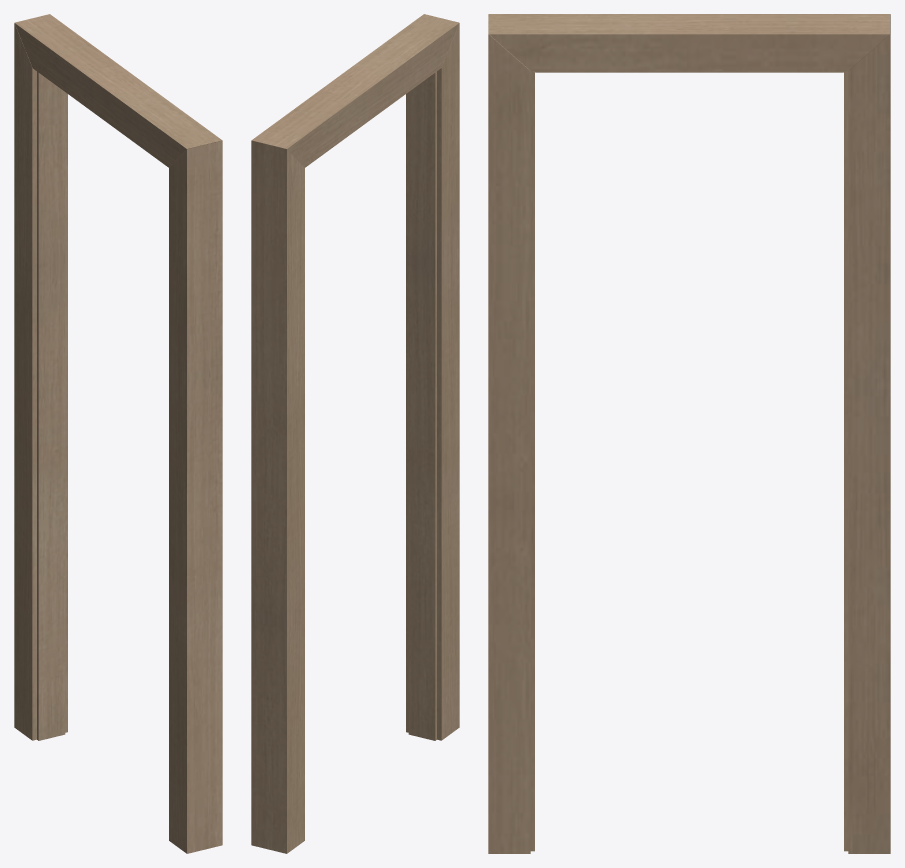
File: EE-PAB-02_1_SRG0.gltf
3 renders of one model, left to right at view 1: azimuth 30°, elevation 25°; view 2: azimuth 150°, elevation 25°; view 3: azimuth 270°, elevation 25°, orthographic. The views are drawn at different scales.
Parts seen in each view (by area): view 1: Mesh2_Agrupar_2_Model000; view 2: Mesh2_Agrupar_2_Model000; view 3: Mesh2_Agrupar_2_Model000.
Part boxes in pixels (x1,y1,x2,y2): Mesh2_Agrupar_2_Model000: (14, 14, 222, 853); Mesh2_Agrupar_2_Model000: (251, 14, 459, 853); Mesh2_Agrupar_2_Model000: (488, 14, 890, 853).
Size of what is drawn, in the model's own units: 0.238 by 4.5 by 2.
1 material, 1 textured.
